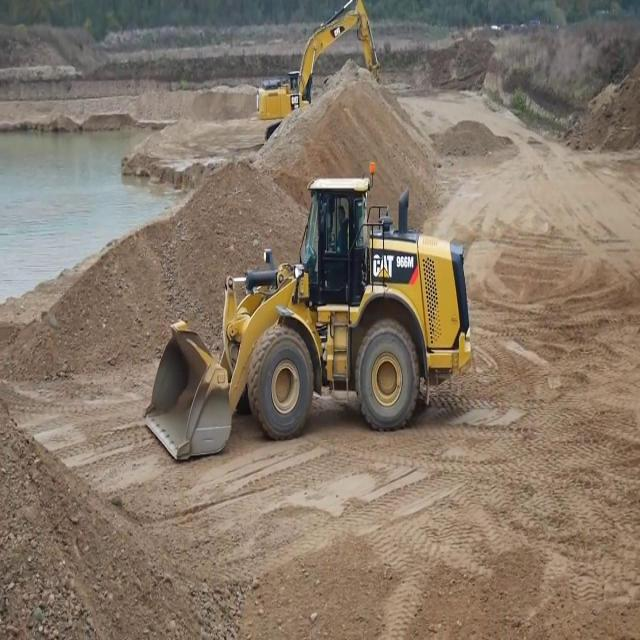Excavator: (255, 0, 383, 144)
Loader: (142, 159, 472, 466)
